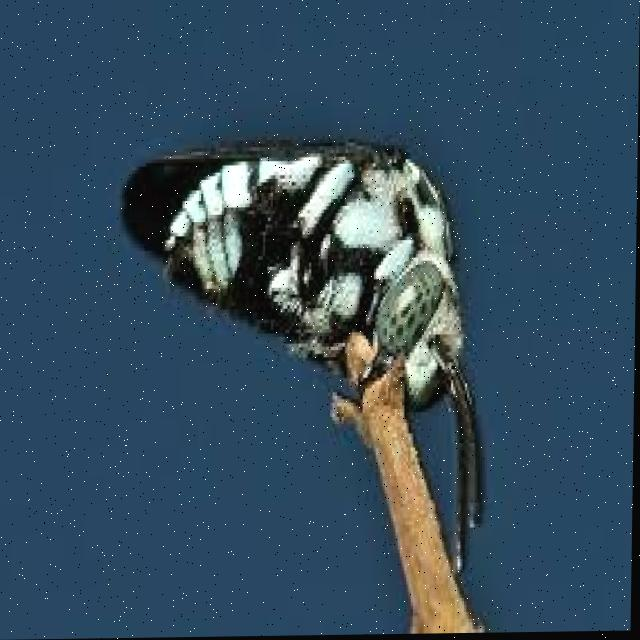Thyreus: (112, 119, 534, 580)
